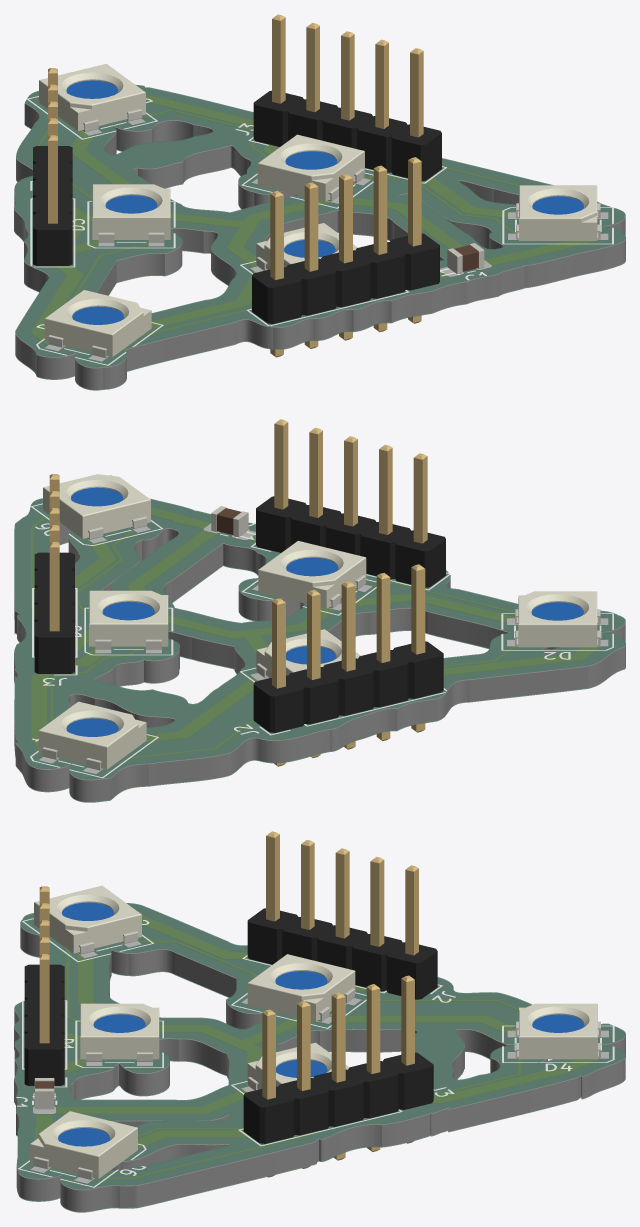
Rendered from triangle.glb.
3 renders of one model, top to bottom at view 1: azimuth 30°, elevation 25°; view 2: azimuth 150°, elevation 25°; view 3: azimuth 270°, elevation 25°, orthographic.
Visible parts, largest first — view 1: =>[0:1:1:10], =>[0:1:1:8], J1, J3, =>[0:1:1:5], J2, D2, D5, D4, D6, D3, =>[0:1:1:7] (+3 smaller); view 2: =>[0:1:1:10], =>[0:1:1:8], J2, J1, =>[0:1:1:5], J3, D4, D1, D6, D2, D5, =>[0:1:1:7] (+3 smaller); view 3: =>[0:1:1:10], =>[0:1:1:8], J3, J2, =>[0:1:1:5], J1, D6, D2, D3, D4, D1, =>[0:1:1:7] (+3 smaller).
Boxes of the visible parts, x1,y1,x2,y2 form: =>[0:1:1:10]: (14, 86, 625, 389); =>[0:1:1:8]: (14, 84, 625, 390); J1: (252, 157, 439, 357); J3: (253, 14, 441, 181); =>[0:1:1:5]: (31, 95, 594, 345); J2: (33, 68, 72, 265); D2: (44, 290, 151, 358); D5: (257, 134, 364, 201); D4: (39, 63, 145, 131); D6: (516, 185, 600, 240); D3: (92, 184, 170, 242); =>[0:1:1:7]: (27, 96, 613, 365); =>[0:1:1:10]: (14, 499, 625, 801); =>[0:1:1:8]: (14, 498, 625, 802); J2: (253, 564, 443, 766); J1: (256, 419, 445, 587); =>[0:1:1:5]: (31, 508, 599, 759); J3: (34, 474, 74, 673); D4: (38, 701, 146, 770); D1: (258, 541, 366, 608); D6: (43, 474, 150, 539); D2: (515, 591, 600, 647); D5: (89, 590, 168, 649); =>[0:1:1:7]: (30, 503, 613, 778); =>[0:1:1:10]: (14, 904, 625, 1211); =>[0:1:1:8]: (14, 903, 625, 1212); J3: (243, 975, 433, 1177); J2: (247, 831, 437, 999); =>[0:1:1:5]: (35, 915, 598, 1178); J1: (24, 886, 64, 1085); D6: (30, 1111, 137, 1179); D2: (34, 885, 141, 954); D3: (247, 954, 355, 1021); D4: (515, 1003, 600, 1059); D1: (80, 1003, 159, 1061); =>[0:1:1:7]: (16, 918, 614, 1187).
Size of the model in its own units: 0.0432 by 0.0115 by 0.0387.
